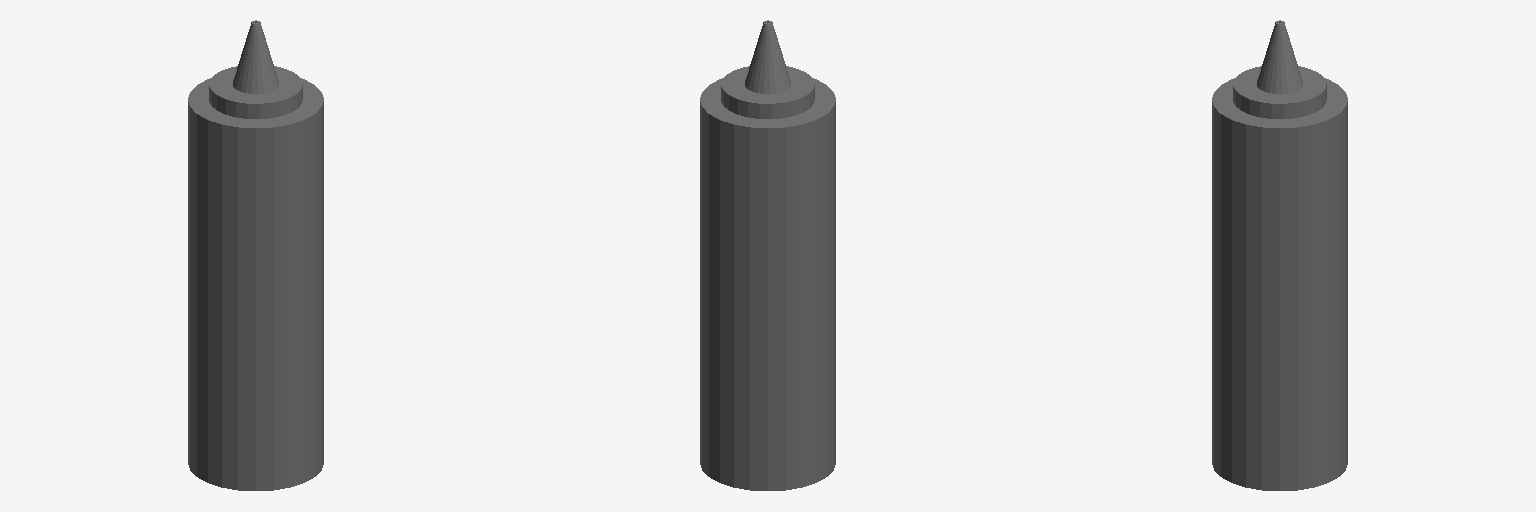
The robot description file, URDF, robot "object":
<?xml version="1.0"?>
<robot name="object">
  <link name="object">
    <visual>
      <origin xyz="0 0 0"/>
      <geometry>
        <mesh
          filename="../../mesh/oakink_virtual/cylinder_bottle_s276.stl" />
      </geometry>
      <material name="mat">
        <color rgba="0.5 0.5 0.5 1"/>
      </material>
    </visual>

    <collision>
      <origin xyz="0 0 0"/>
      <geometry>
        <mesh
          filename="../../mesh/oakink_virtual/cylinder_bottle_s276.stl" />
      </geometry>
    </collision>
  </link>
</robot>

--- What the picture shows (computed from the rendered views, not written in the file) ---
3 views of the same robot in one strip: view 1: azimuth 30°, elevation 25°; view 2: azimuth 150°, elevation 25°; view 3: azimuth 270°, elevation 25° (orthographic).
Model object with 1 links and 0 joints (none), rooted at object, posed all joints at 0.
Visible links, largest first — view 1: object; view 2: object; view 3: object.
Link boxes in pixels (x1=…): object: x1=188, y1=20, x2=323, y2=490; object: x1=700, y1=20, x2=835, y2=490; object: x1=1212, y1=20, x2=1347, y2=490.
Size in the robot's own frame: 0.0663 by 0.0663 by 0.2362 metres.
1 mesh visuals loaded from 1 distinct referenced files (1 binary STL).